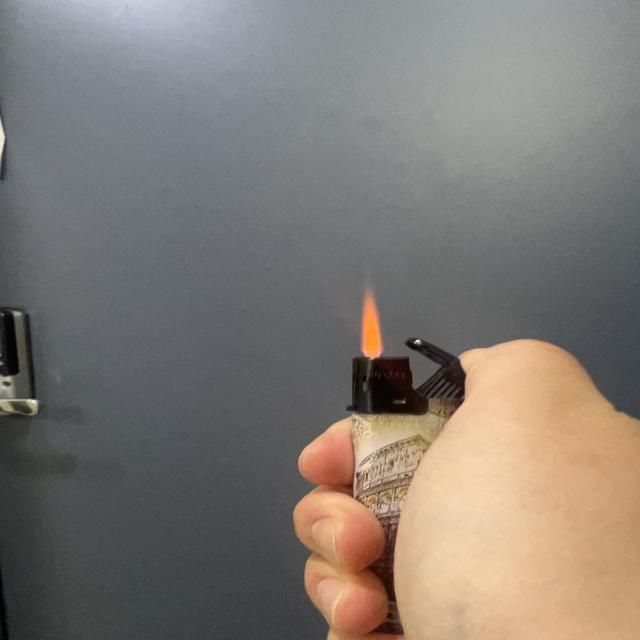fire: (360, 284, 388, 359)
